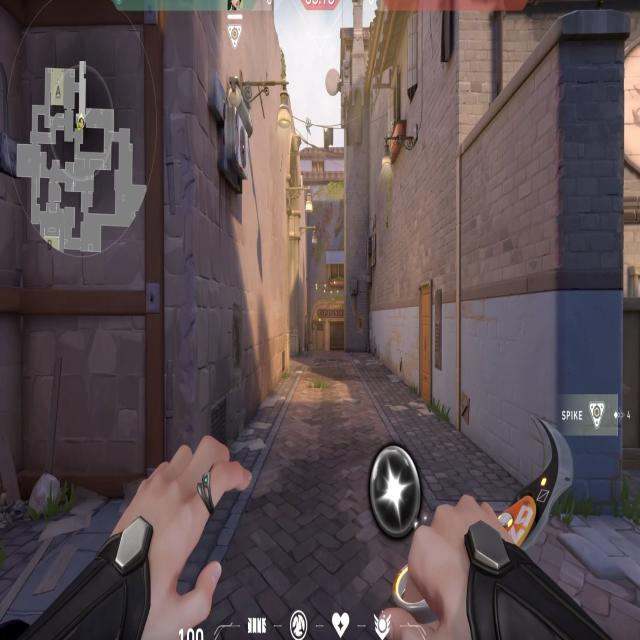Wine: (306, 286, 350, 358)
